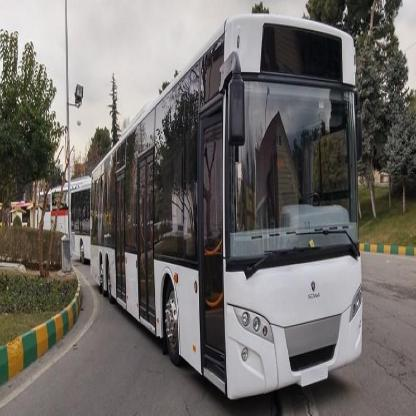Bus: (89, 9, 366, 393), (67, 180, 95, 272)
